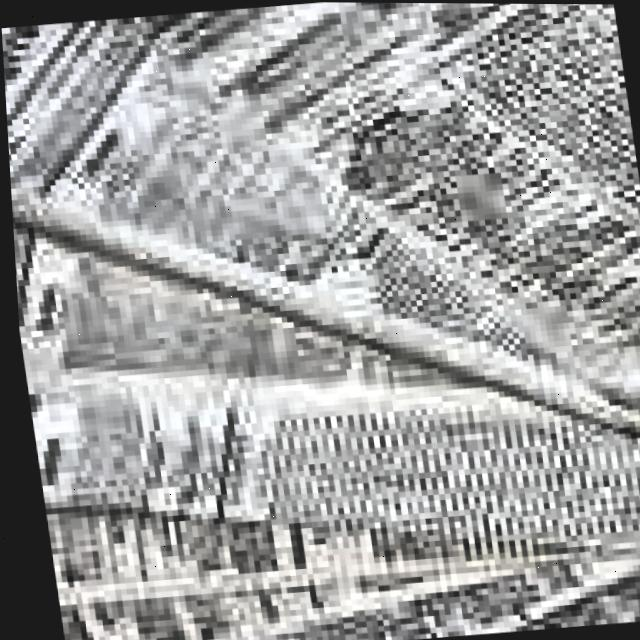paper: (1, 2, 640, 640), (130, 2, 640, 415)
